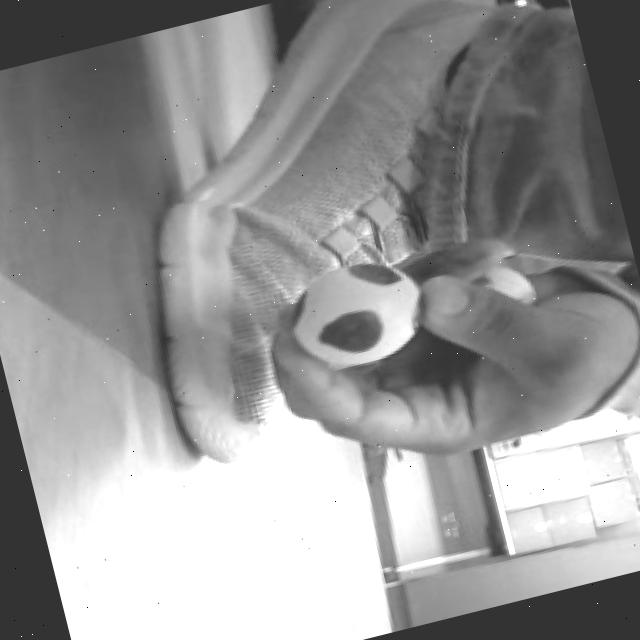ping-pong-ball: (272, 248, 436, 385)
